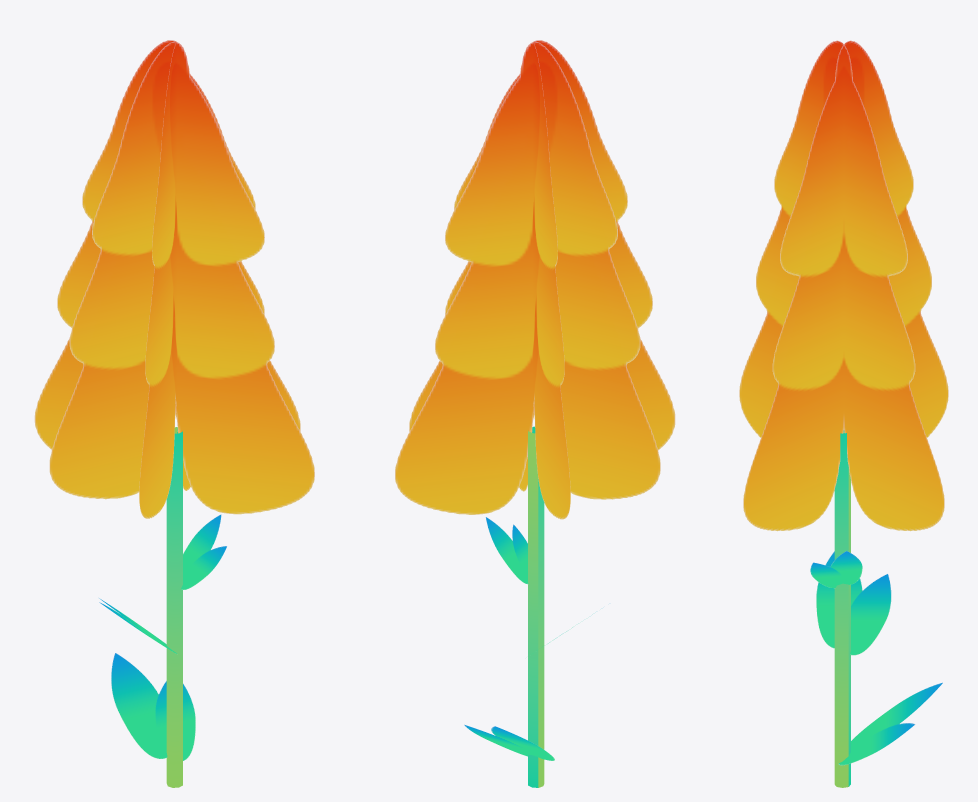
The model's file is Flowers_n02_06.fbx.
The picture shows the model from 3 angles, left to right: view 1: azimuth 30°, elevation 25°; view 2: azimuth 150°, elevation 25°; view 3: azimuth 270°, elevation 25°; orthographic projection.
Parts seen in each view (by area): view 1: polySurface163; view 2: polySurface163; view 3: polySurface163.
Part boxes in pixels (x1,y1,x2,y2): polySurface163: [34, 40, 314, 787]; polySurface163: [395, 40, 675, 787]; polySurface163: [739, 40, 948, 787].
Size of the model in its own units: 17.06 by 42.4 by 12.06.
Materials: 1 (1 with a texture image).
